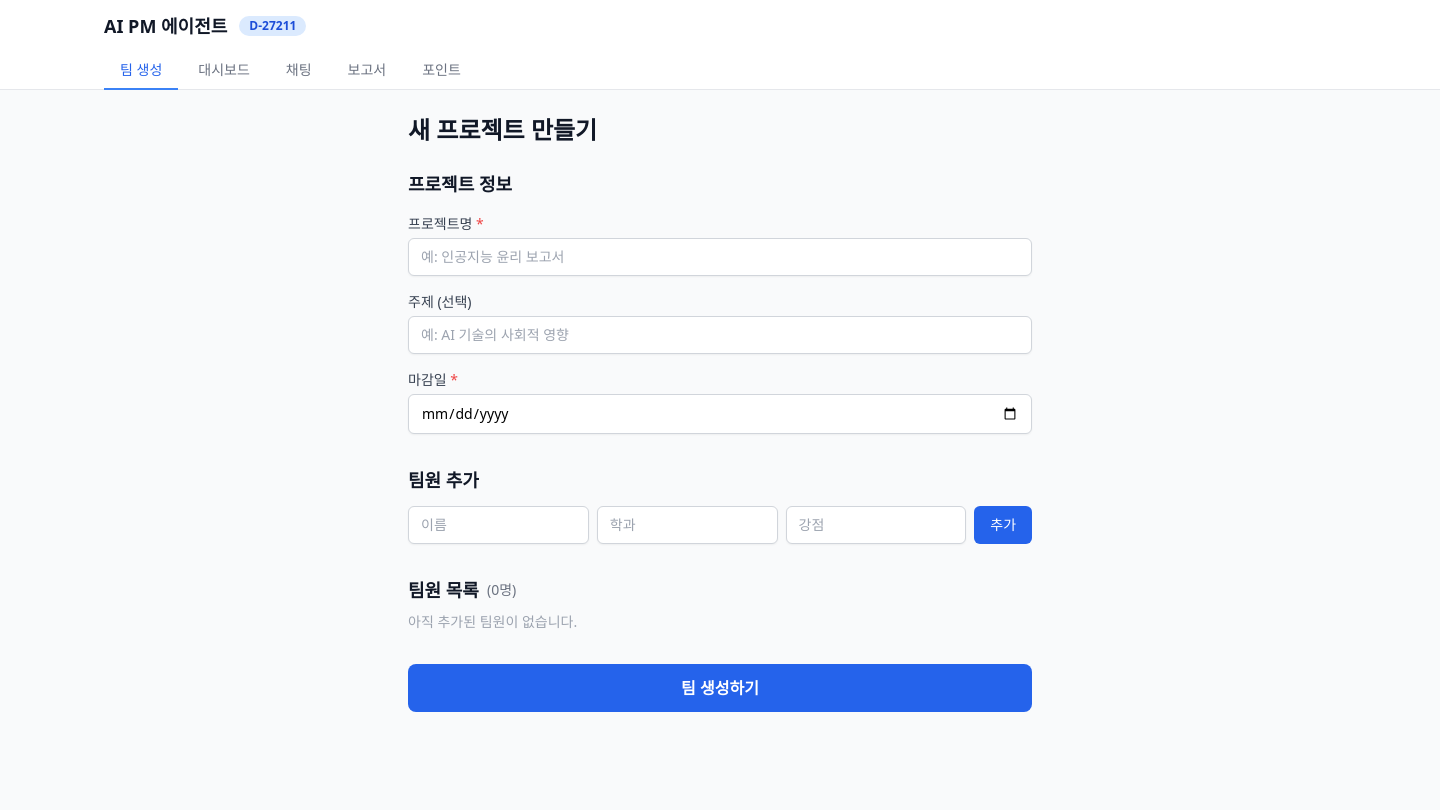
Test case: App › switches to 채팅 tab on click
Click the button "채팅" at (299, 71), box [270,52,328,90]
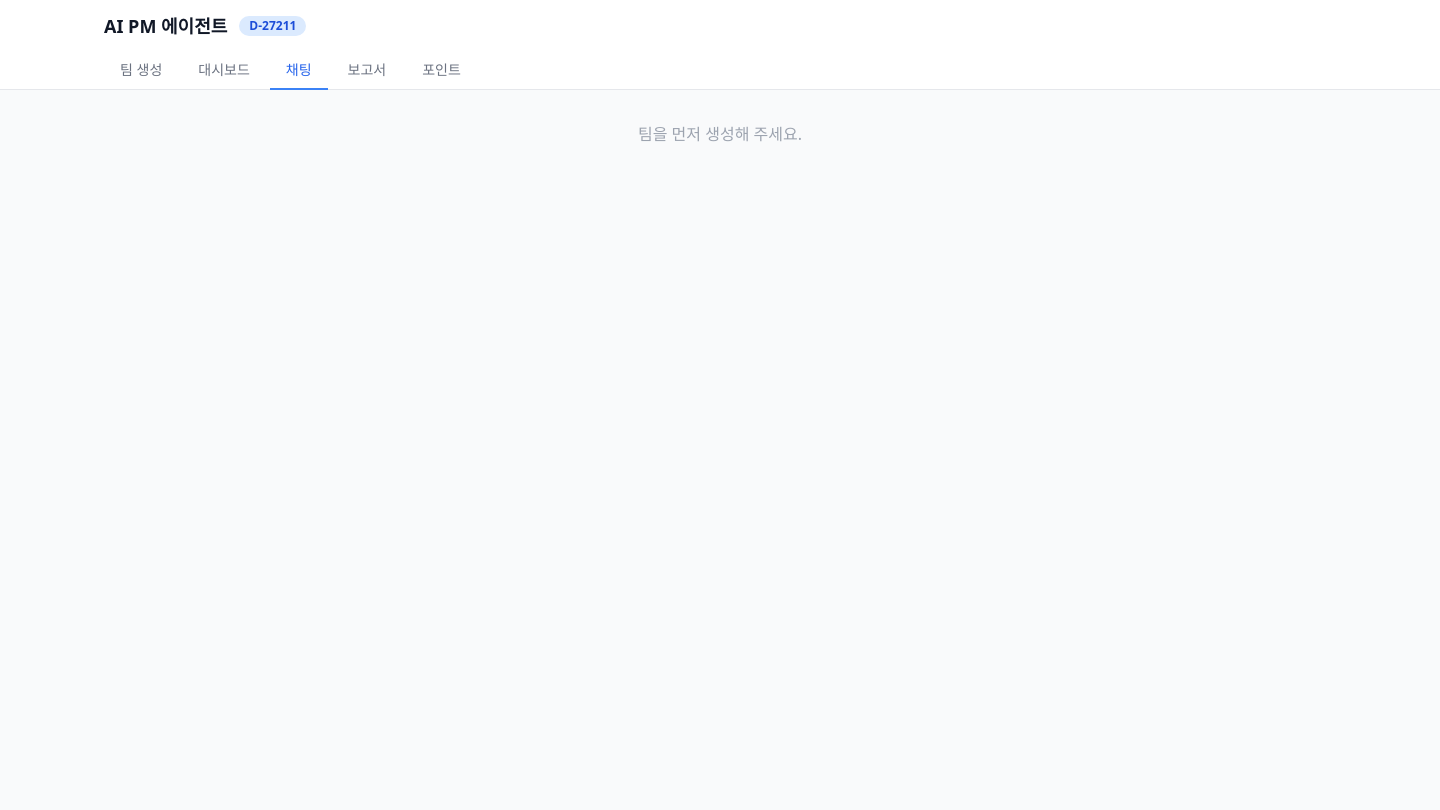
expect the text "팀을 먼저 생성해 주세요." is shown: met, box [638,123,802,145]
